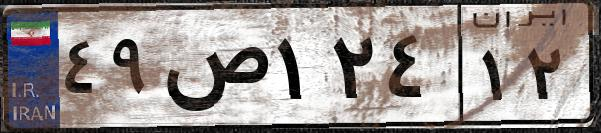1: (270, 28, 330, 110), (475, 38, 525, 113)
2: (330, 28, 385, 110), (525, 38, 570, 115)
4: (385, 28, 445, 110), (57, 26, 110, 100)
9: (110, 28, 158, 98)
ص: (158, 20, 270, 120)
